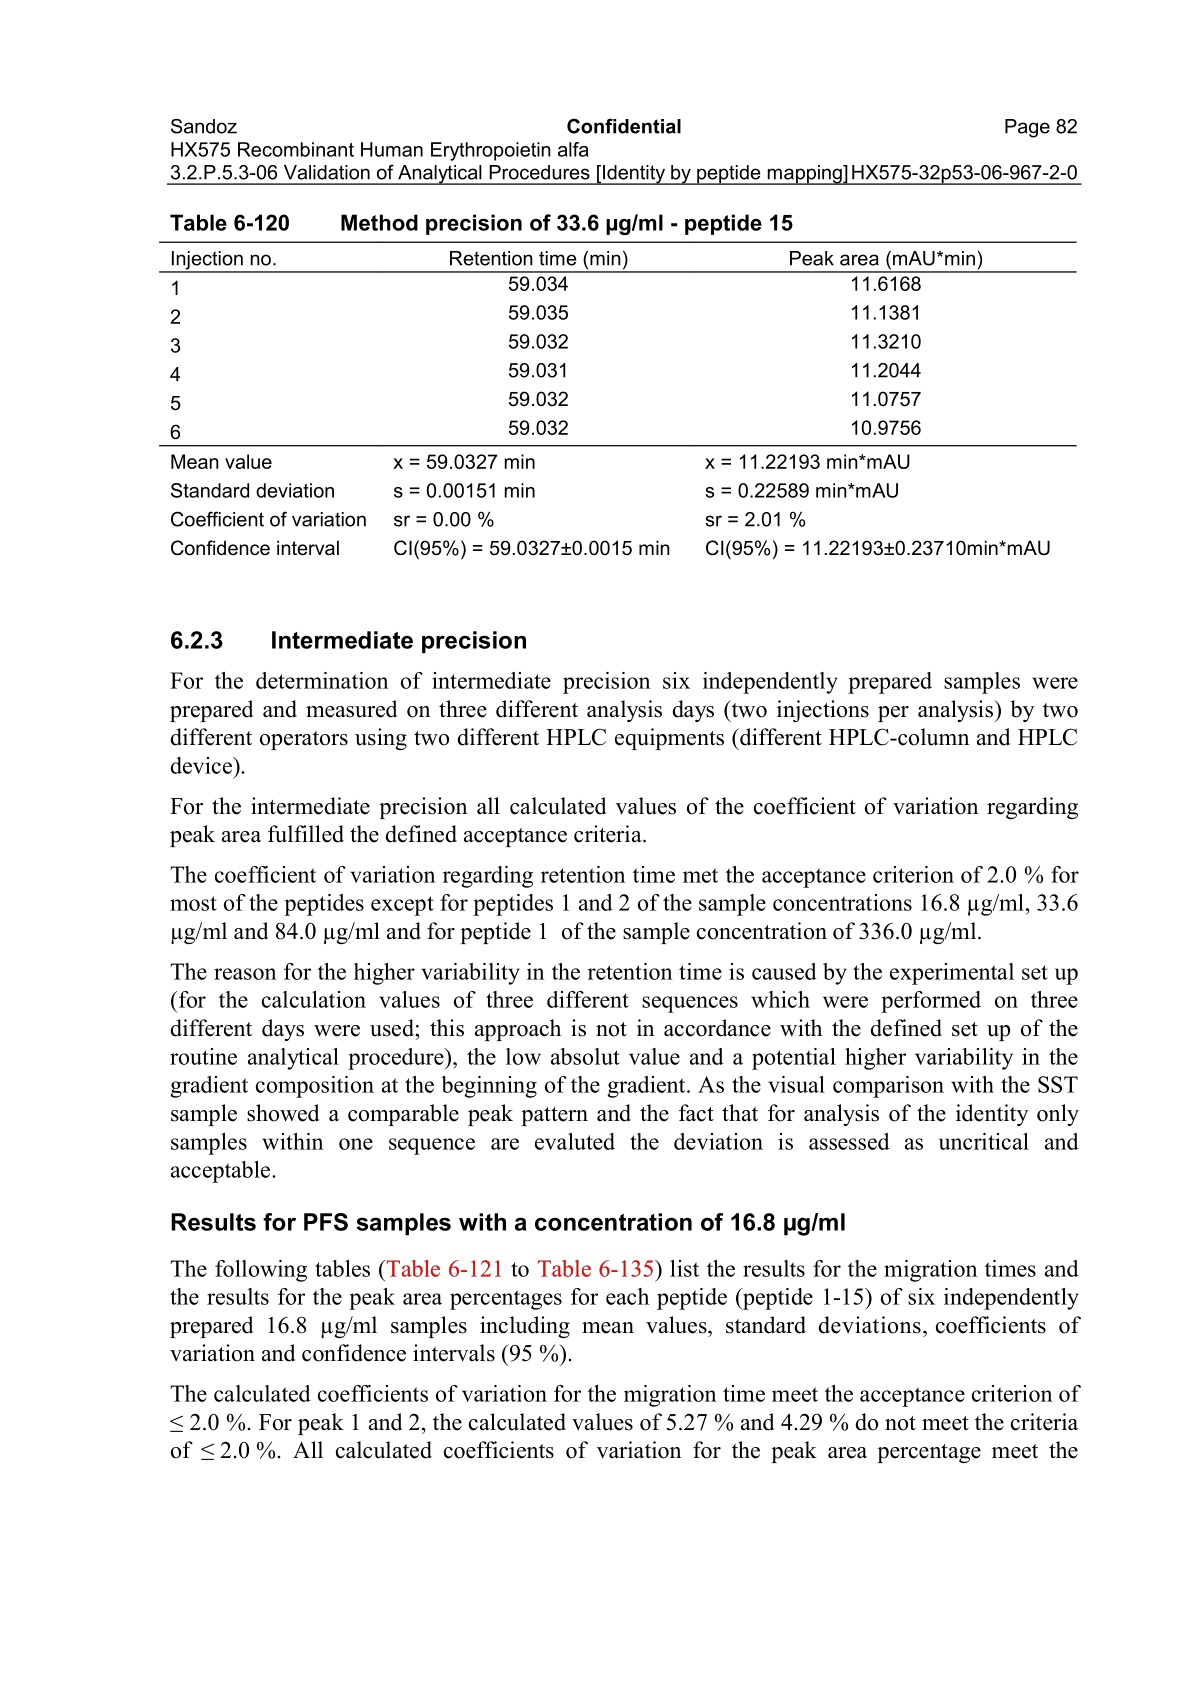partial_lined: (159, 240, 1078, 560)
